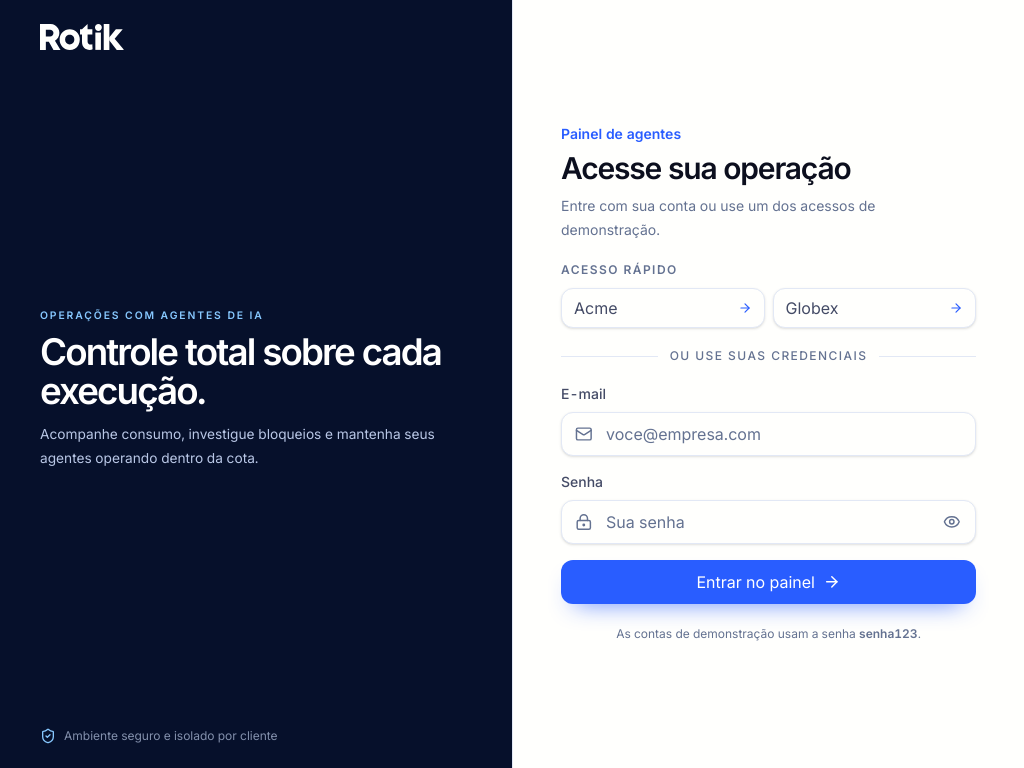
Test case: autenticação › explica falha conhecida e inesperada e remove a imagem quando falha
Step 1. Type "teste@rotik.dev" into the field labelled "E-mail" → (768,434), box [561, 412, 976, 456]
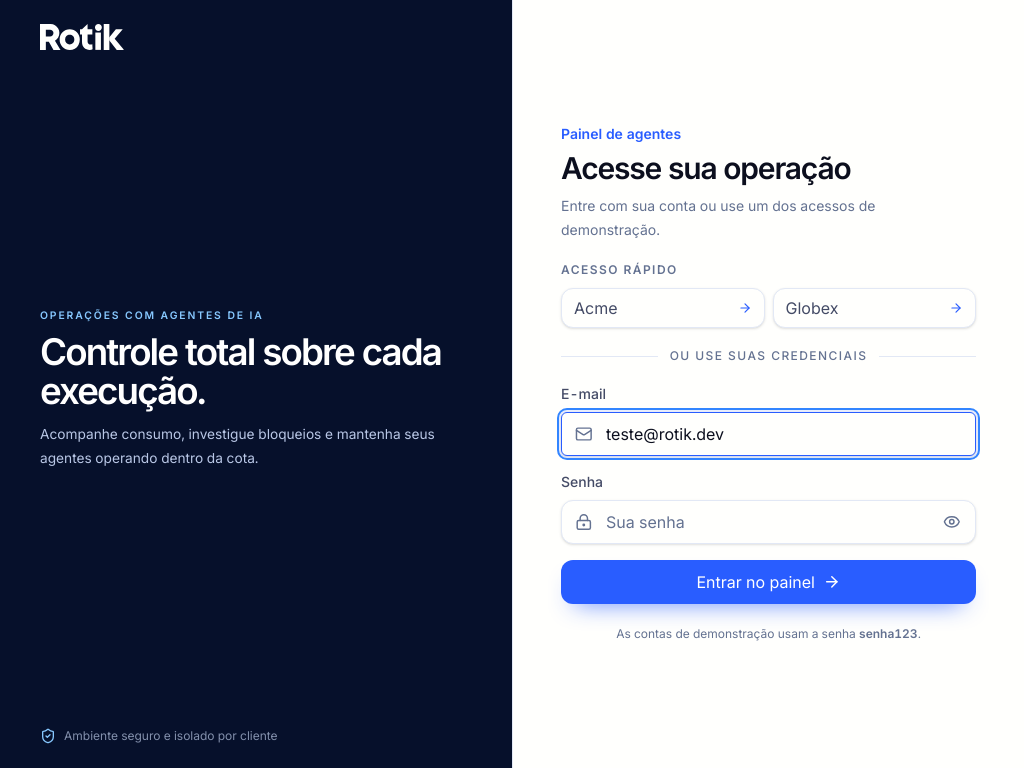
Step 2. Type "senha" into the password field labelled "Senha" → (768,522), box [561, 500, 976, 544]
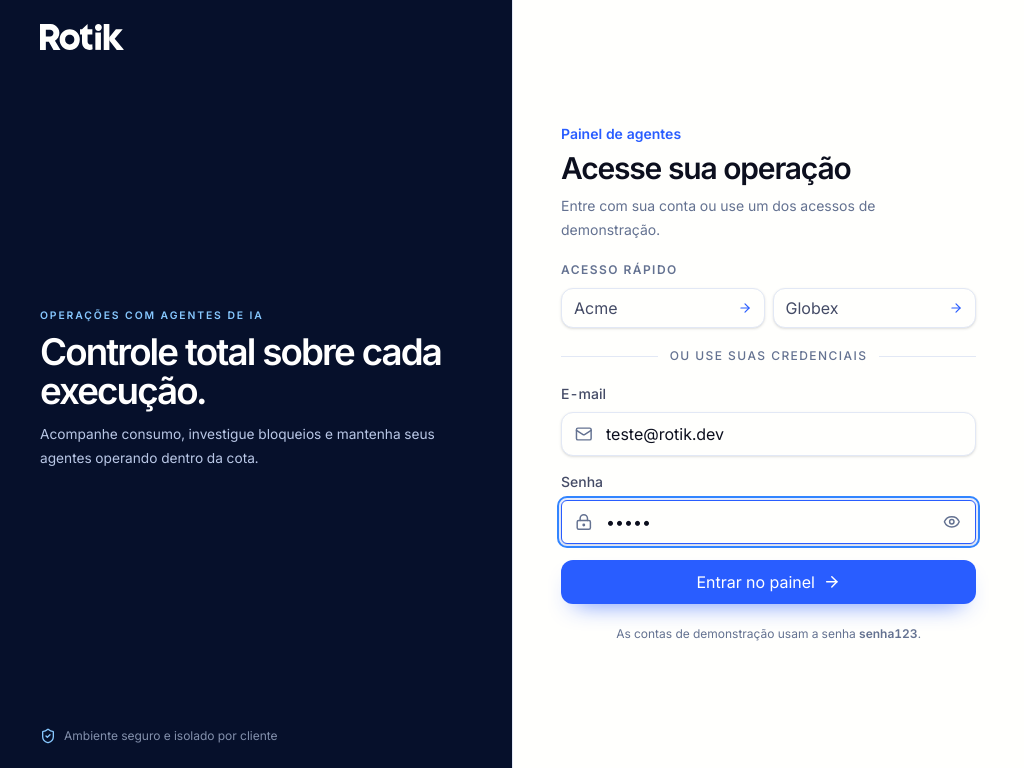
Step 3. Click the button "Entrar no painel" → (768,582), box [561, 560, 976, 604]
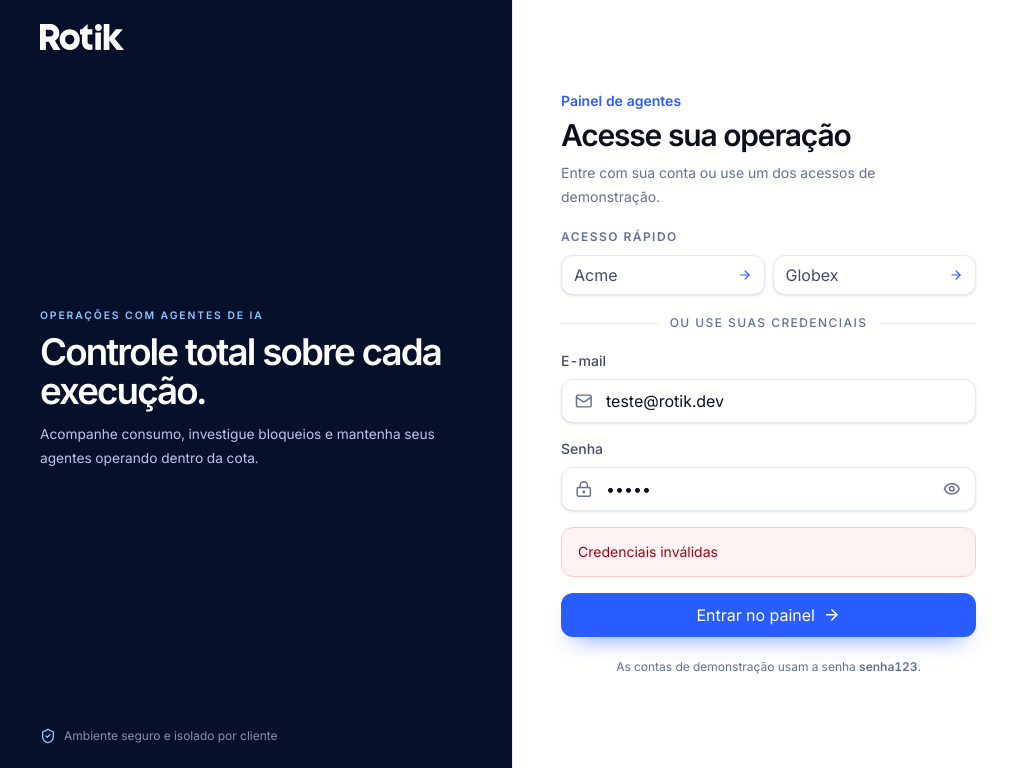
Expected: the message reads "Credenciais inválidas", [578, 543, 718, 560]
Step 4. Click the button "Entrar no painel" → (768,615), box [561, 593, 976, 637]
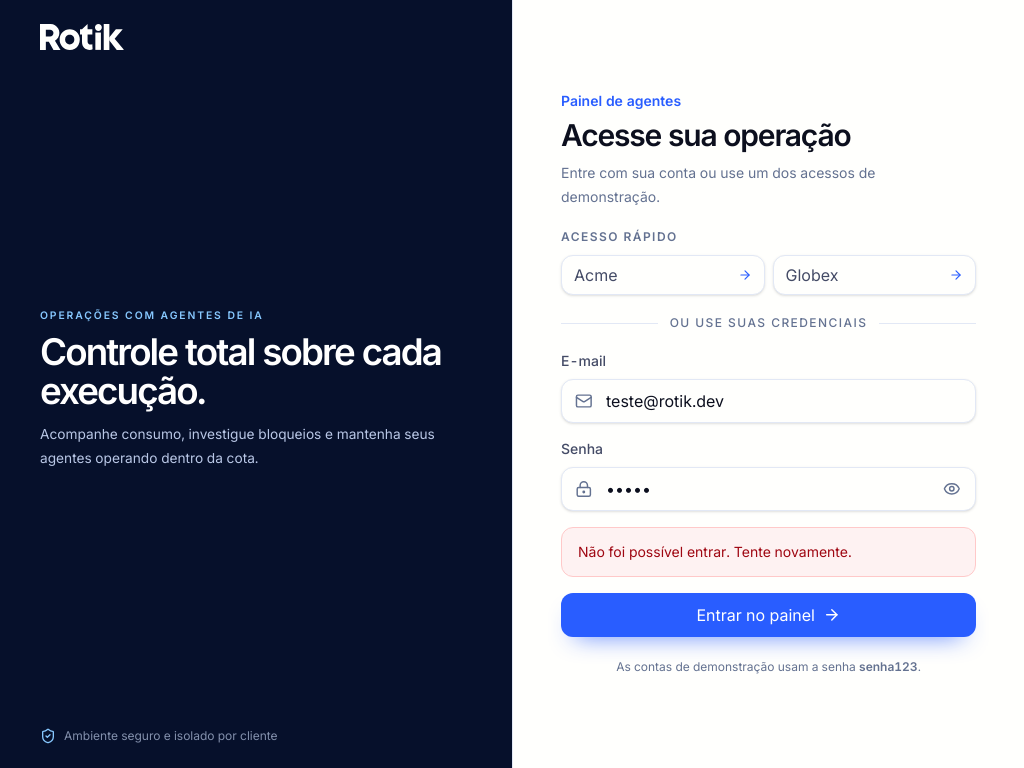
Expected: the message shows "Não foi possível entrar", [578, 543, 852, 560]
